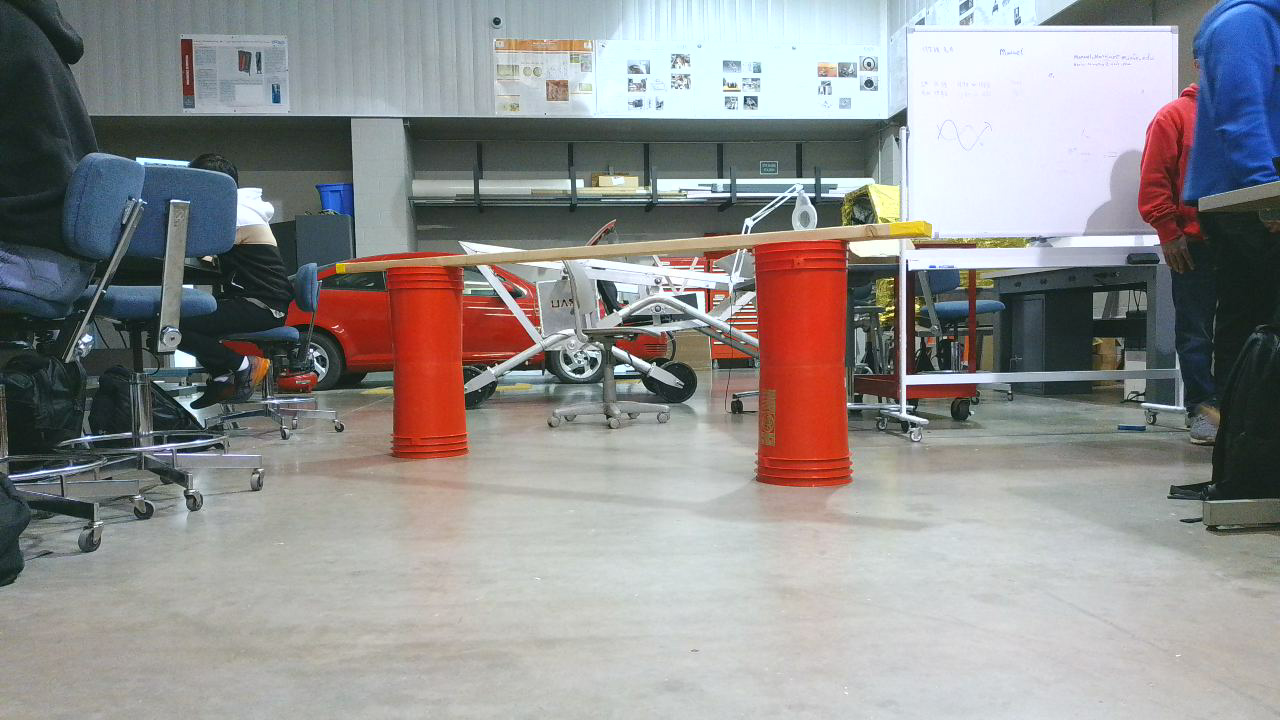red_bucket_arch: (347, 262, 874, 500)
